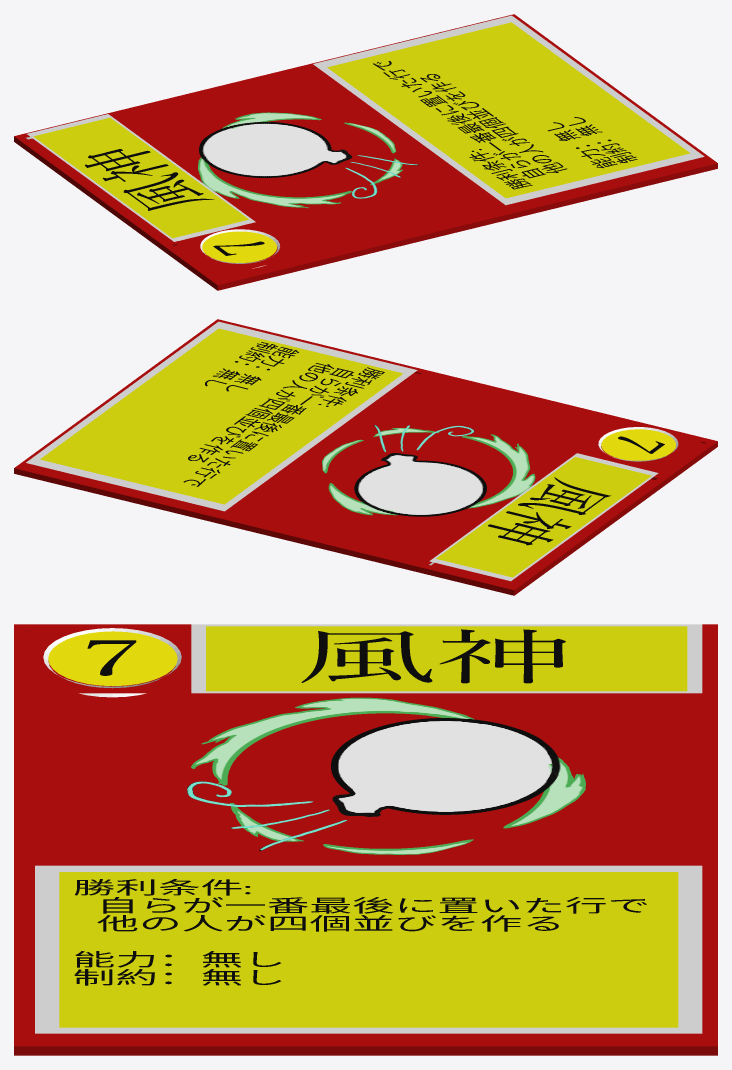
Rendered from 風神赤.fbx.
3 views of the same model, one above another, from view 1: azimuth 30°, elevation 25°; view 2: azimuth 150°, elevation 25°; view 3: azimuth 270°, elevation 25° (orthographic). The views are drawn at different scales.
Parts seen in each view (by area): view 1: カード本体.001, 説明欄, 名前欄, 平面.001, 説明文, 円, 平面, 名前; view 2: カード本体.001, 説明欄, 名前欄, 平面.001, 説明文, 円, 平面, 名前; view 3: カード本体.001, 説明欄, 名前欄, 平面.001, 説明文, 円, 平面, 名前, コスト蘭.
Part boxes in pixels (x1,y1,x2,y2): カード本体.001: [14, 14, 717, 290]; 説明欄: [313, 15, 704, 205]; 名前欄: [27, 114, 255, 241]; 平面.001: [198, 112, 418, 208]; 説明文: [373, 61, 637, 189]; 円: [202, 231, 276, 262]; 平面: [174, 222, 302, 275]; 名前: [85, 149, 214, 210]; カード本体.001: [14, 319, 717, 595]; 説明欄: [26, 321, 417, 511]; 名前欄: [429, 453, 658, 581]; 平面.001: [322, 425, 535, 516]; 説明文: [183, 342, 384, 486]; 円: [601, 429, 675, 460]; 平面: [577, 419, 704, 472]; 名前: [488, 477, 610, 545]; カード本体.001: [14, 624, 717, 1055]; 説明欄: [35, 865, 702, 1033]; 名前欄: [191, 624, 702, 693]; 平面.001: [187, 697, 585, 854]; 説明文: [74, 879, 646, 985]; 円: [48, 631, 177, 686]; 平面: [30, 624, 191, 693]; 名前: [301, 629, 565, 683]; コスト蘭: [43, 628, 181, 697].
Size of the model in its own units: 281 by 6.07 by 198.
